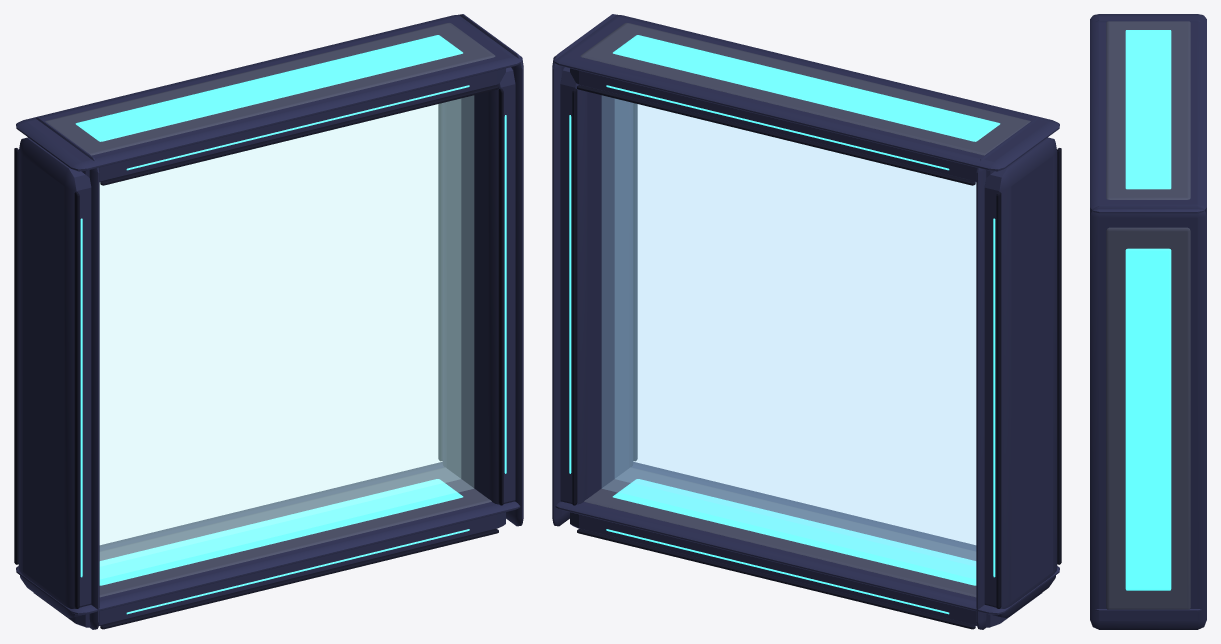
Rendered from canopy.straight.glb.
3 renders of one model, left to right at view 1: azimuth 30°, elevation 25°; view 2: azimuth 150°, elevation 25°; view 3: azimuth 270°, elevation 25°, orthographic. The views are drawn at different scales.
Parts seen in each view (by area): view 1: GEO-canopy.straight; view 2: GEO-canopy.straight; view 3: GEO-canopy.straight.
Boxes of the visible parts, box(x1,y1,x2,y2) form: GEO-canopy.straight: box(14, 14, 523, 629); GEO-canopy.straight: box(552, 14, 1061, 629); GEO-canopy.straight: box(1090, 14, 1206, 629).
Bounding box in the file's own units: 1 × 1 × 0.25.
